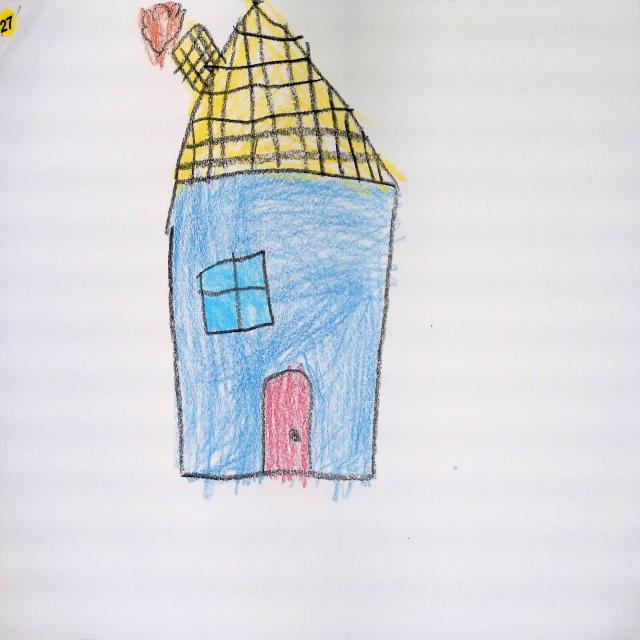chimney: (171, 21, 221, 96)
door: (264, 370, 311, 475)
house: (168, 0, 398, 481)
roof: (169, 1, 402, 188)
wall: (166, 169, 396, 484)
window: (199, 251, 273, 334)
